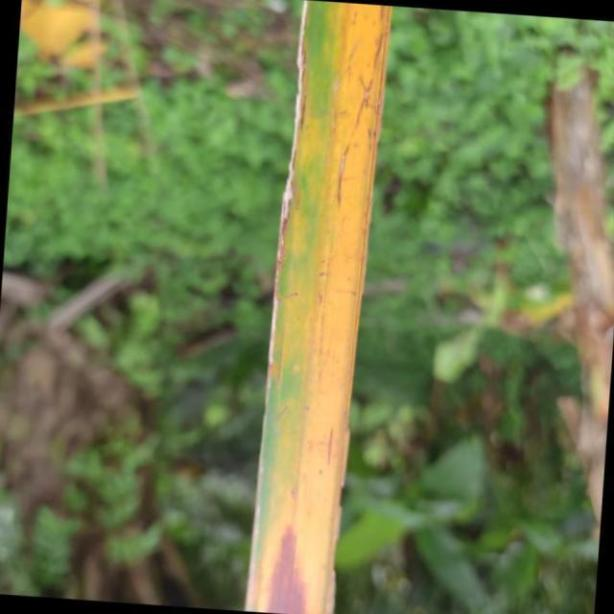Megnesium: (245, 0, 395, 614)
